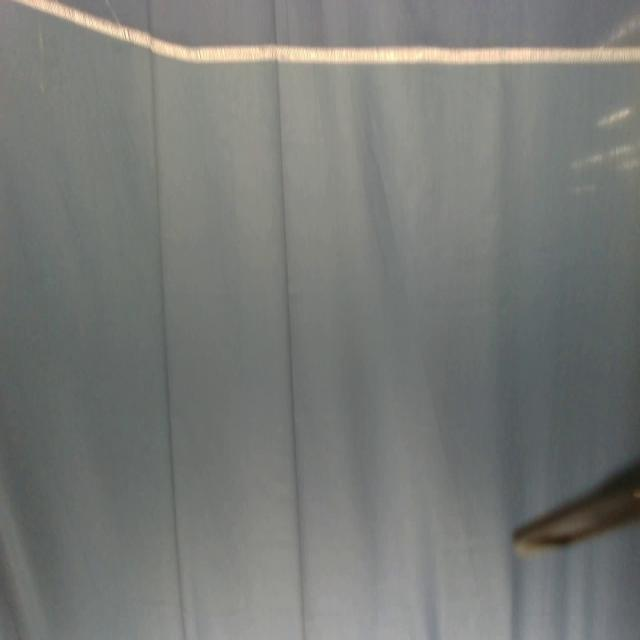crease: (147, 0, 188, 635), (272, 0, 306, 637)
